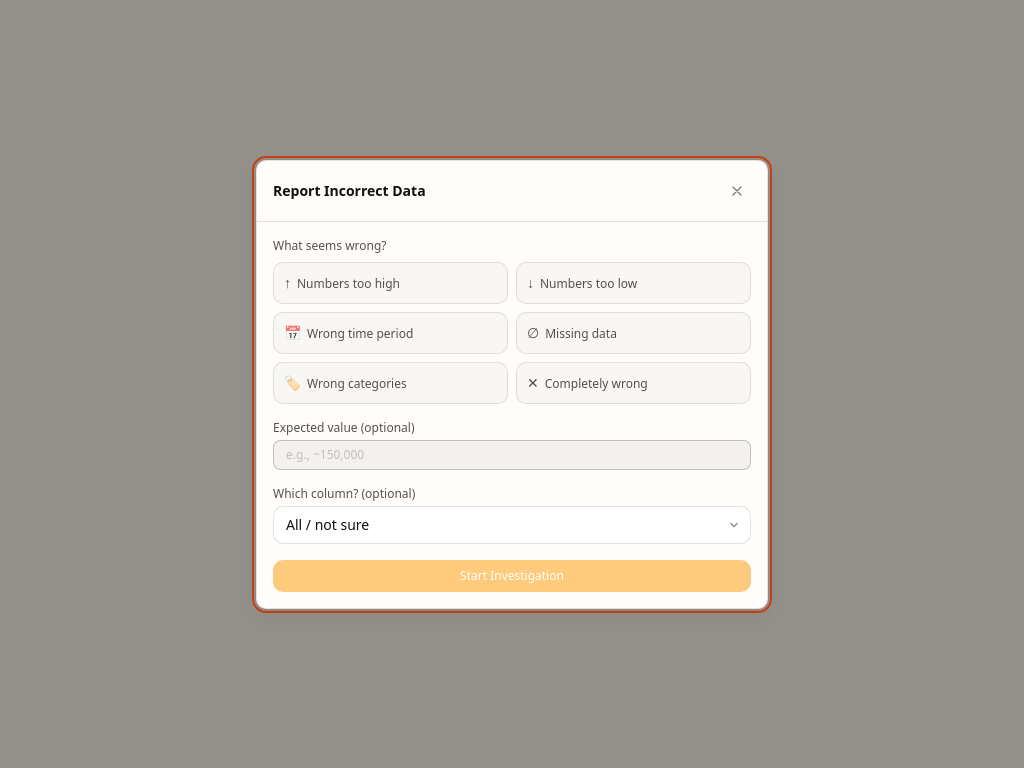
WrongDataModal › survives a failed read, and says so after three in a row
Click the button "↓Numbers too low": (634, 282) [516,262,751,304]
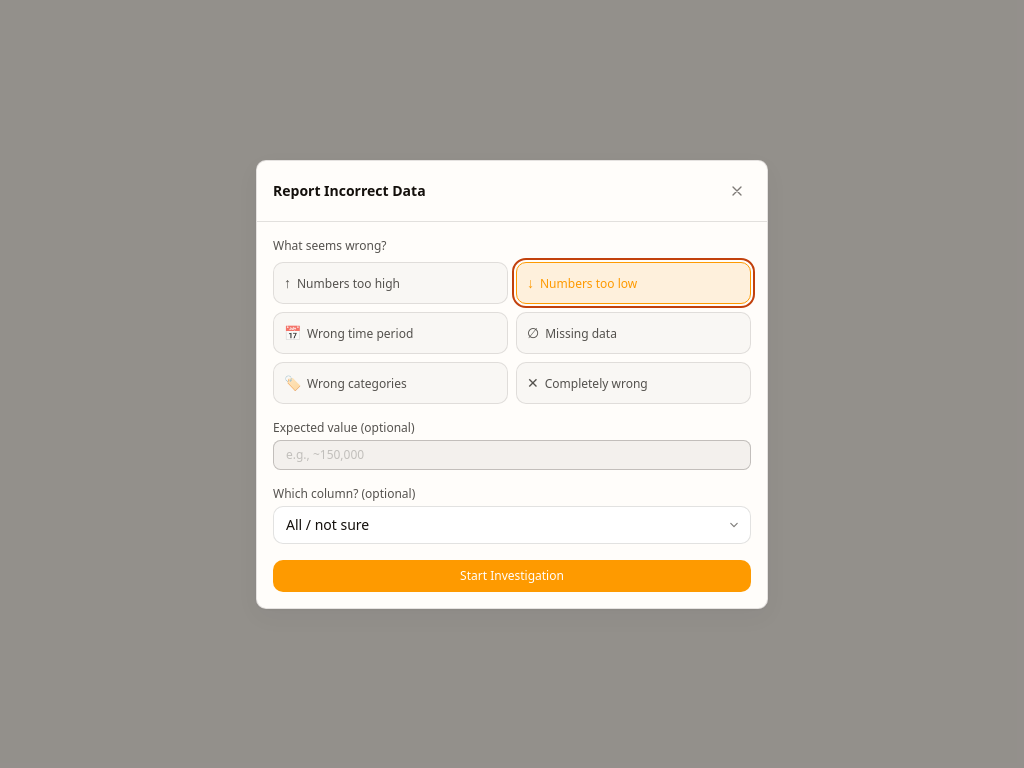
Click the button "Start Investigation": (512, 576) [273,560,751,592]
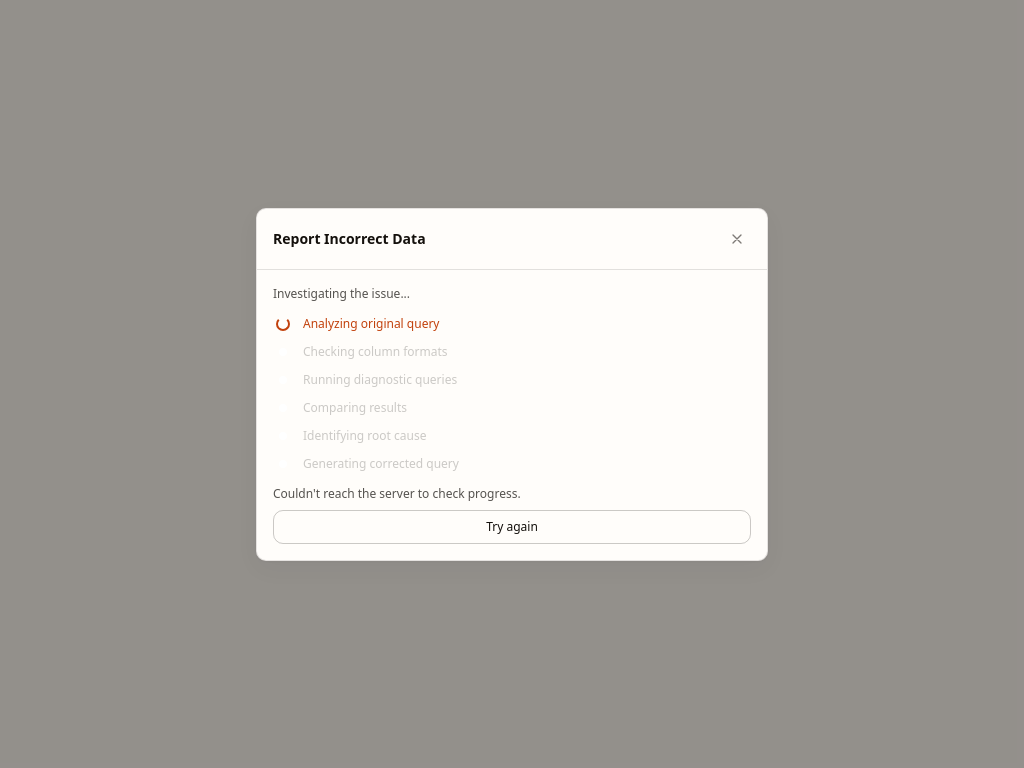
Expected: the text "Couldn't reach the server to check progress." is shown, [273,484,521,502]
Expected: the button "Try again" is shown, [273,510,751,544]
